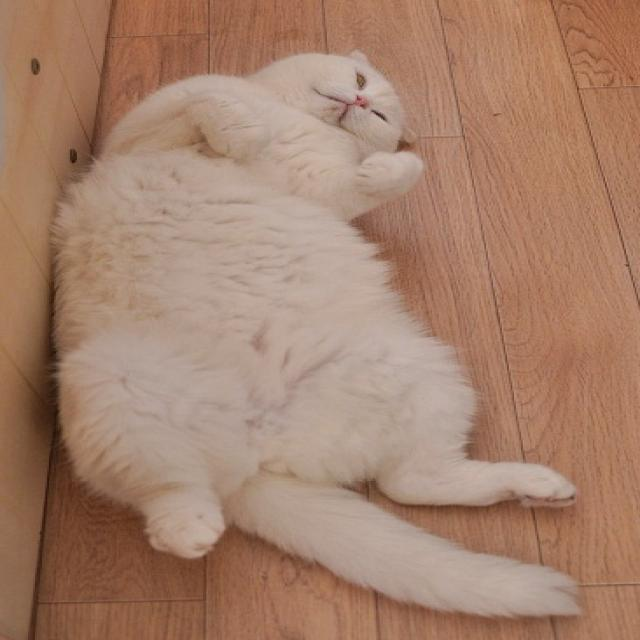cat: (0, 31, 587, 623)
